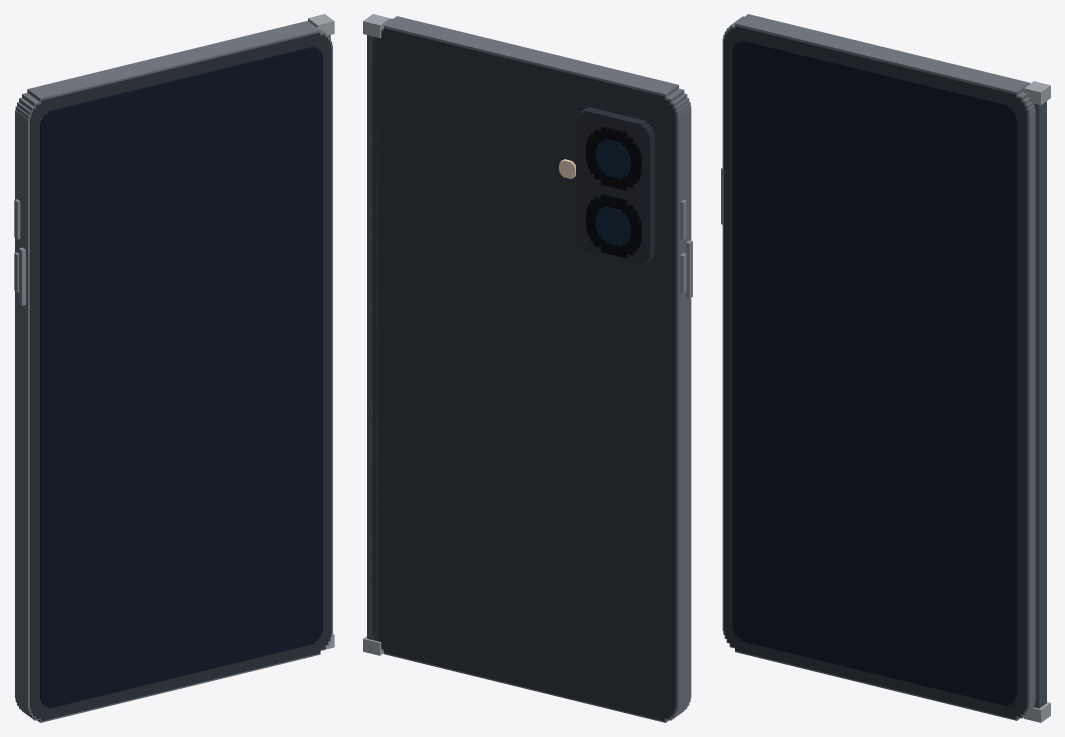
Rendered from iphone_duo_closed.obj.
3 renders of one model, left to right at view 1: azimuth 30°, elevation 25°; view 2: azimuth 150°, elevation 25°; view 3: azimuth 330°, elevation 25°, orthographic.
Parts seen in each view (by area): view 1: outer_display, outer_shell, body_rıght, body_left, body_rıght_top_0, body_left_top_0, outer_shell_top_0, outer_shell_top_2, outer_shell_bottom_2, outer_shell_top_1, outer_shell_bottom_1, outer_display_top_0 (+15 smaller); view 2: outer_shell, hinge, body_left, body_rıght, camera, body_left_top_0, body_rıght_top_0, outer_shell_top_0, outer_shell_top_5, outer_shell_bottom_5, outer_shell_top_4, outer_shell_bottom_4 (+8 smaller); view 3: outer_display, outer_shell, hinge, body_rıght, body_rıght_top_0, body_left_top_0, outer_shell_top_0, outer_shell_top_2, outer_shell_bottom_2, outer_shell_top_1, outer_shell_bottom_1, outer_display_top_0 (+15 smaller).
Part boxes in pixels (<box>): outer_display: <box>40,60,323,695</box>; outer_shell: <box>30,50,331,704</box>; body_rıght: <box>21,49,332,704</box>; body_left: <box>15,114,21,699</box>; body_rıght_top_0: <box>34,25,320,102</box>; body_left_top_0: <box>27,21,313,97</box>; outer_shell_top_0: <box>41,32,320,103</box>; outer_shell_top_2: <box>33,37,327,112</box>; outer_shell_bottom_2: <box>33,641,327,716</box>; outer_shell_top_1: <box>36,34,325,108</box>; outer_shell_bottom_1: <box>36,645,325,718</box>; outer_display_top_0: <box>48,46,314,114</box>; outer_shell: <box>372,45,676,703</box>; hinge: <box>367,35,378,641</box>; body_left: <box>676,115,684,703</box>; body_rıght: <box>684,110,691,698</box>; camera: <box>576,122,654,253</box>; body_left_top_0: <box>383,21,672,97</box>; body_rıght_top_0: <box>390,16,678,92</box>; outer_shell_top_0: <box>384,28,664,99</box>; outer_shell_top_5: <box>372,42,676,118</box>; outer_shell_bottom_5: <box>372,630,676,707</box>; outer_shell_top_4: <box>373,39,675,115</box>; outer_shell_bottom_4: <box>373,633,675,710</box>; outer_display: <box>732,53,1017,693</box>; outer_shell: <box>724,43,1027,701</box>; hinge: <box>1033,101,1046,708</box>; body_rıght: <box>722,42,1035,701</box>; body_rıght_top_0: <box>735,19,1023,95</box>; body_left_top_0: <box>742,14,1030,90</box>; outer_shell_top_0: <box>735,26,1016,97</box>; outer_shell_top_2: <box>727,30,1023,106</box>; outer_shell_bottom_2: <box>727,639,1023,714</box>; outer_shell_top_1: <box>730,28,1021,102</box>; outer_shell_bottom_1: <box>730,643,1021,716</box>; outer_display_top_0: <box>741,39,1008,107</box>.
Bounding box in the file's own units: 8.37 × 15.9 × 1.02.
